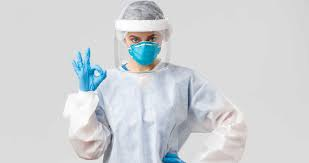glove: (69, 45, 109, 95)
